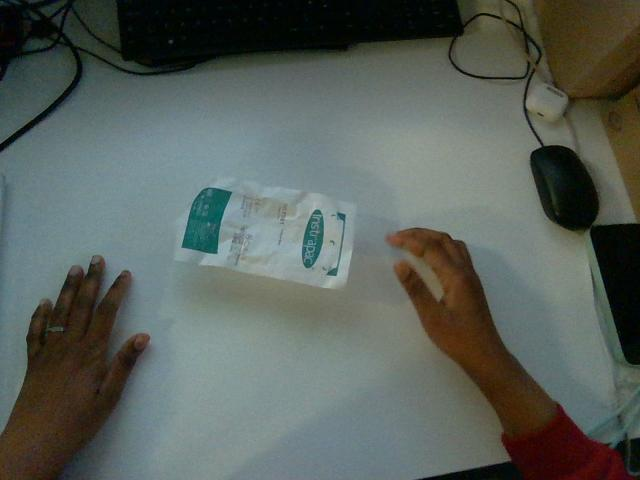gallipot: (174, 179, 354, 287)
